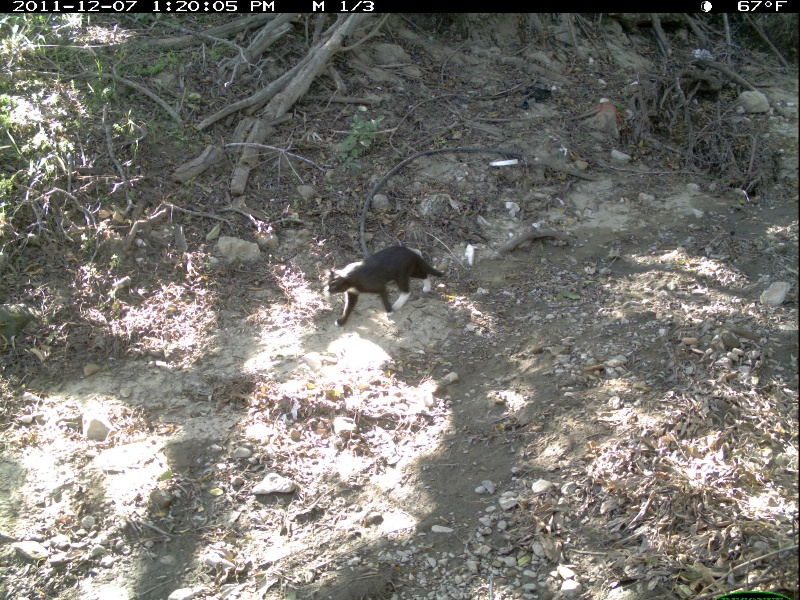cat: (326, 239, 444, 330)
